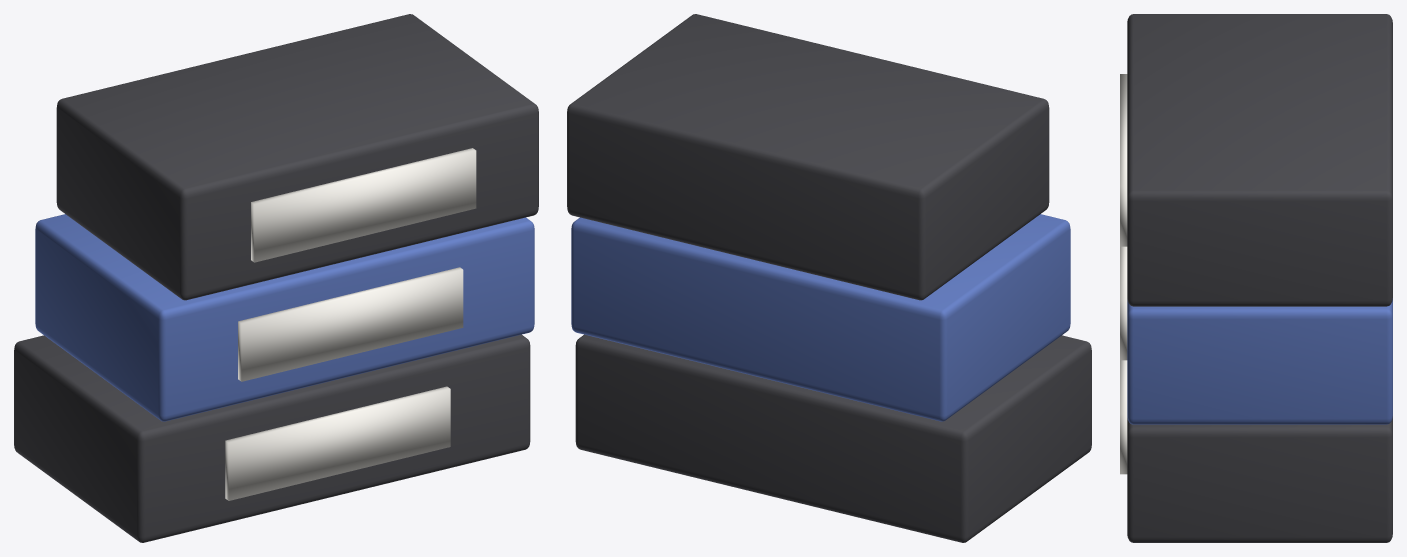
File: vhs_stack.glb
3 renders of one model, left to right at view 1: azimuth 30°, elevation 25°; view 2: azimuth 150°, elevation 25°; view 3: azimuth 270°, elevation 25°, orthographic. The views are drawn at different scales.
Visible parts, largest first — view 1: Cube.010, Cube.006, Cube.008, Cube.007, Cube.009, Cube.011; view 2: Cube.010, Cube.006, Cube.008; view 3: Cube.010, Cube.008, Cube.006, Cube.011, Cube.007, Cube.009.
Boxes of the visible parts, bbox=[...] form: Cube.010: bbox=[56, 14, 538, 300]; Cube.006: bbox=[14, 334, 530, 542]; Cube.008: bbox=[35, 214, 534, 421]; Cube.007: bbox=[225, 386, 450, 500]; Cube.009: bbox=[238, 267, 463, 381]; Cube.011: bbox=[251, 148, 476, 262]; Cube.010: bbox=[567, 14, 1049, 300]; Cube.006: bbox=[575, 334, 1091, 542]; Cube.008: bbox=[571, 214, 1070, 421]; Cube.010: bbox=[1127, 14, 1392, 306]; Cube.008: bbox=[1127, 298, 1392, 424]; Cube.006: bbox=[1127, 416, 1392, 542]; Cube.011: bbox=[1120, 74, 1127, 246]; Cube.007: bbox=[1120, 360, 1127, 474]; Cube.009: bbox=[1120, 246, 1127, 360].
Size of the model in its own units: 4.7 by 3.85 by 2.67.
